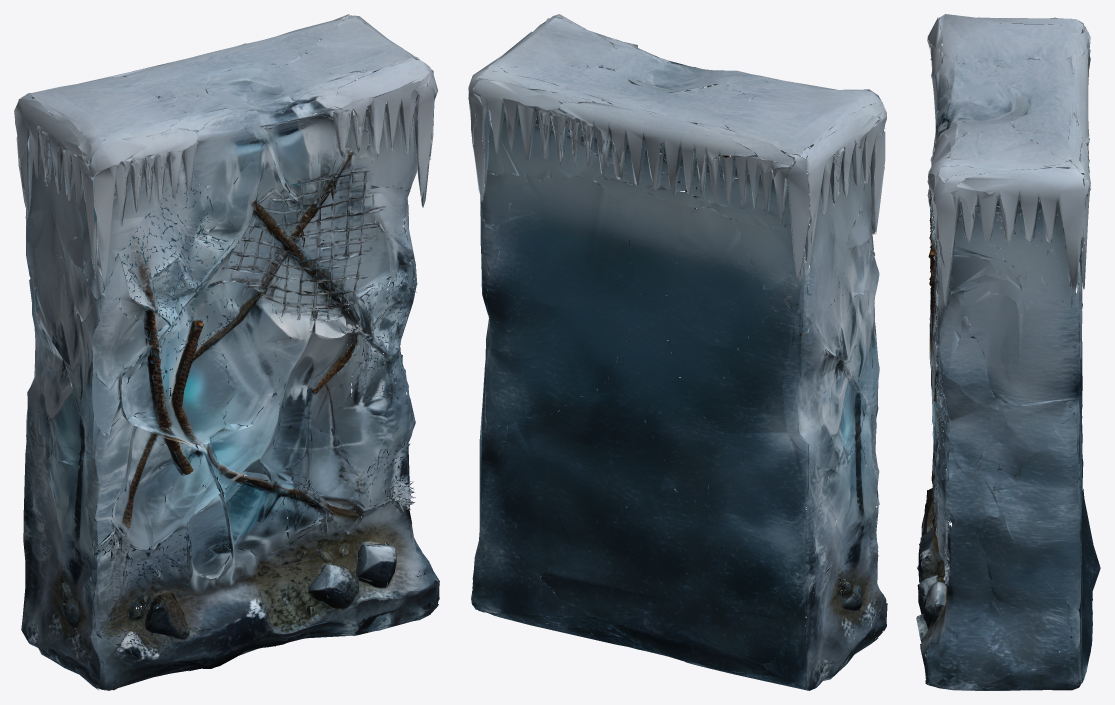
Rendered from barrier_ice_intact.glb.
The picture shows the model from 3 angles, left to right: view 1: azimuth 30°, elevation 25°; view 2: azimuth 150°, elevation 25°; view 3: azimuth 270°, elevation 25°; orthographic projection. The views are drawn at different scales.
Parts seen in each view (by area): view 1: node_0; view 2: node_0; view 3: node_0.
Boxes of the visible parts, box(x1,y1,x2,y2) form: node_0: box(14, 14, 439, 690); node_0: box(468, 14, 887, 690); node_0: box(916, 14, 1100, 690).
Size of the model in its own units: 0.672 by 1 by 0.3179.
1 material, 1 textured.
